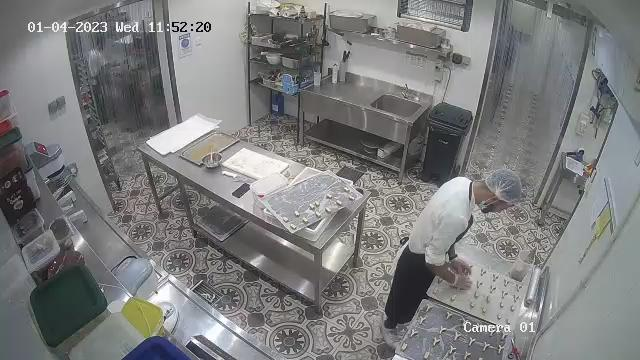apron: (396, 227, 443, 280)
